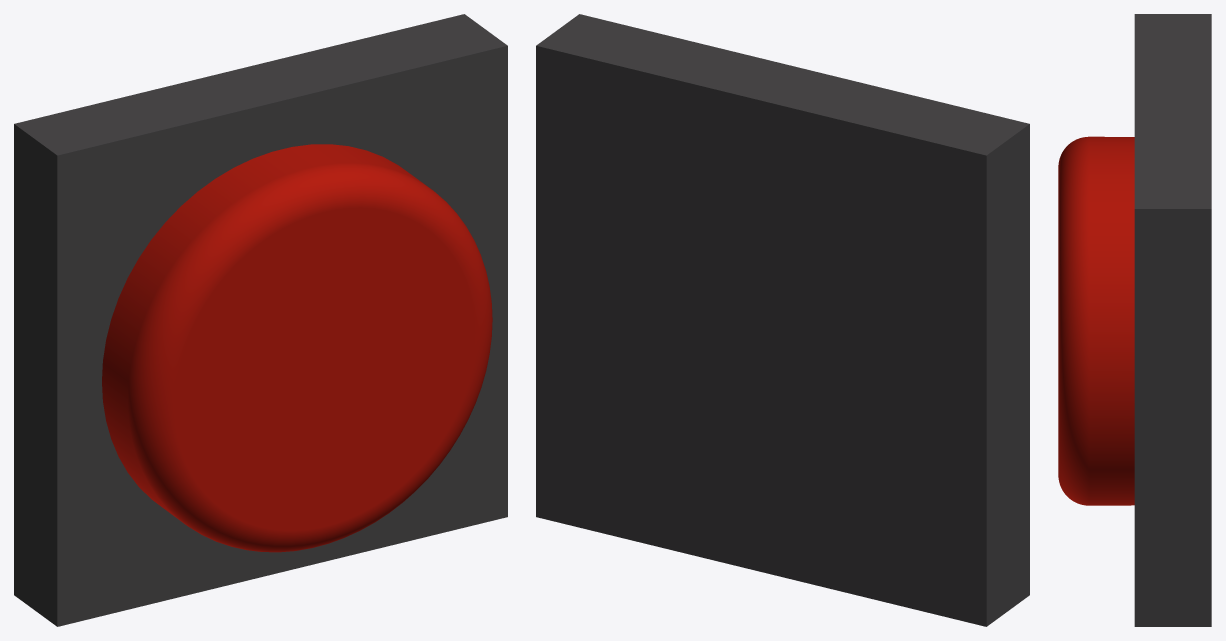
File: button1animation.fbx
The picture shows the model from 3 angles, left to right: view 1: azimuth 30°, elevation 25°; view 2: azimuth 150°, elevation 25°; view 3: azimuth 270°, elevation 25°; orthographic projection. The views are drawn at different scales.
Visible parts, largest first — view 1: mesh0.002, mesh3.002, mesh5.002, mesh4.002; view 2: mesh8.002, mesh5.002, mesh4.002; view 3: mesh7.002, mesh0.002, mesh4.002.
Boxes of the visible parts, x1,y1,x2,y2 form: mesh0.002: (102,144,492,552); mesh3.002: (57,45,507,626); mesh5.002: (14,124,57,626); mesh4.002: (14,14,507,155); mesh8.002: (536,45,986,626); mesh5.002: (986,124,1029,626); mesh4.002: (536,14,1029,155); mesh7.002: (1134,209,1211,626); mesh0.002: (1058,136,1134,505); mesh4.002: (1134,14,1211,208).
Bounding box in the file's own units: 15 × 15 × 4.98.
